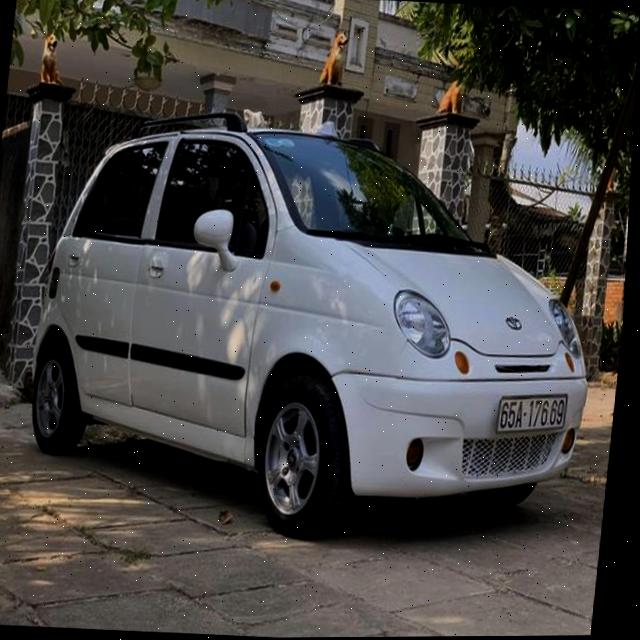car: (13, 100, 620, 561)
plate: (489, 388, 573, 440)
